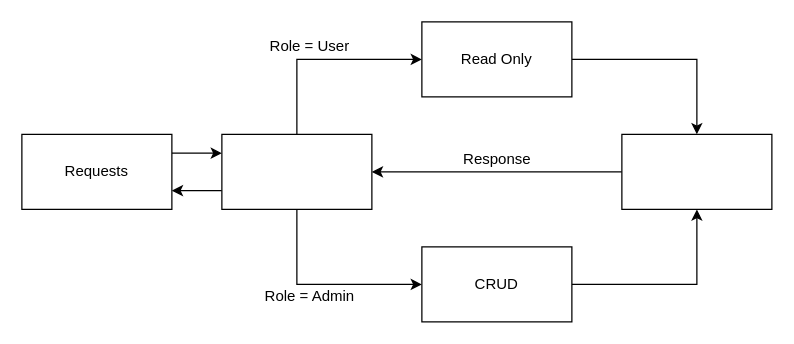
This 794x344 diagram has some shape labels left out. Here are the shapes that lost their labels. From the top down, the centre of each, then its label:
At point 296,171: "Authorization".
At point 696,171: "Server REST API".
